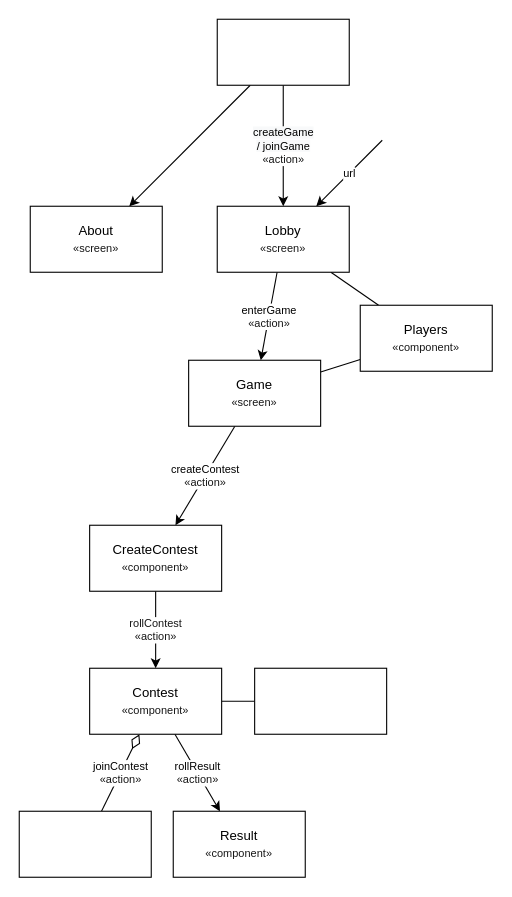
Image size: 512x897. Some labels were removed from this diagram. Here are the shapes that lost their labels. From the top down, the centre of each, then its label:
point 282,51: Splash «screen »
point 320,700: Challenge «component »
point 84,843: Contestant «component »
